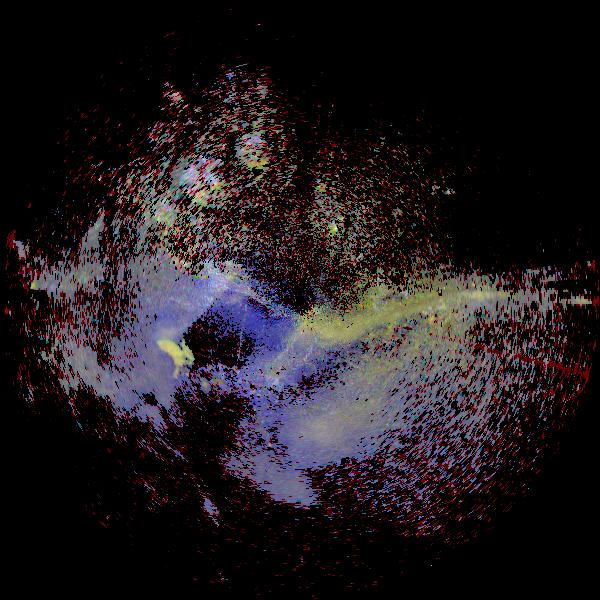roost: (142, 335, 199, 392)
